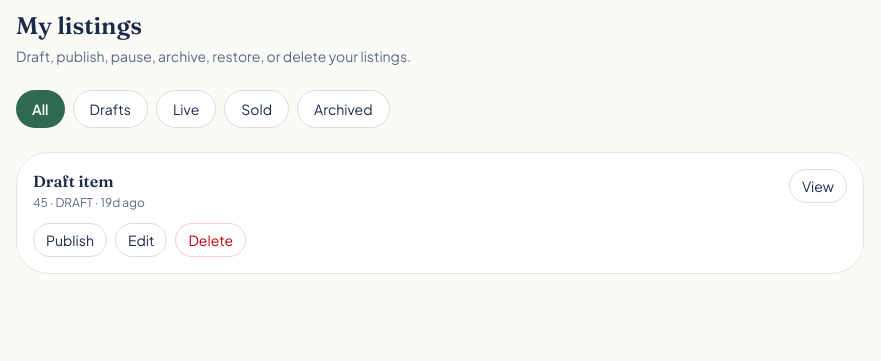
Test: MyListings › refuses a transition the API rejects and surfaces the reason
Click the button "Publish".
click(70, 240)  # box [33,223,107,257]
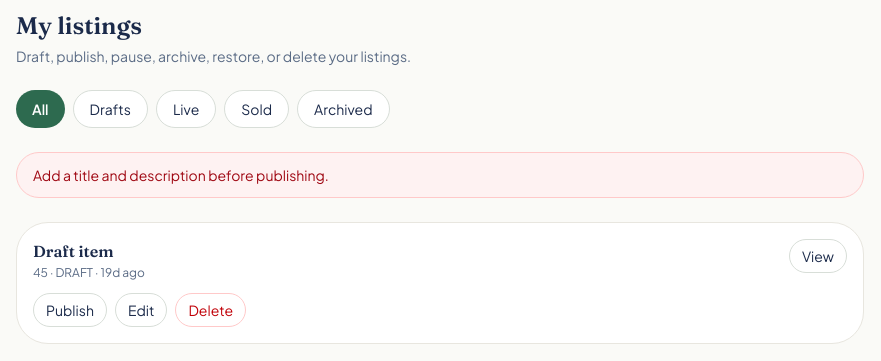
Expected: the message shows "Add a title and description", [33,166,329,184]
